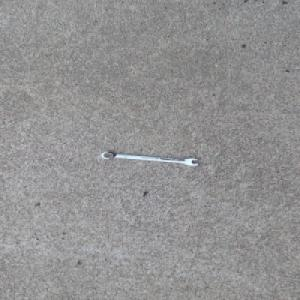Wrench: (99, 150, 200, 167)
